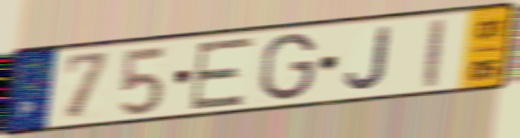5: (116, 43, 172, 117)
7: (62, 48, 111, 123)
E: (186, 34, 258, 112)
G: (257, 31, 319, 103)
I: (422, 15, 448, 91)
J: (342, 24, 394, 93)
